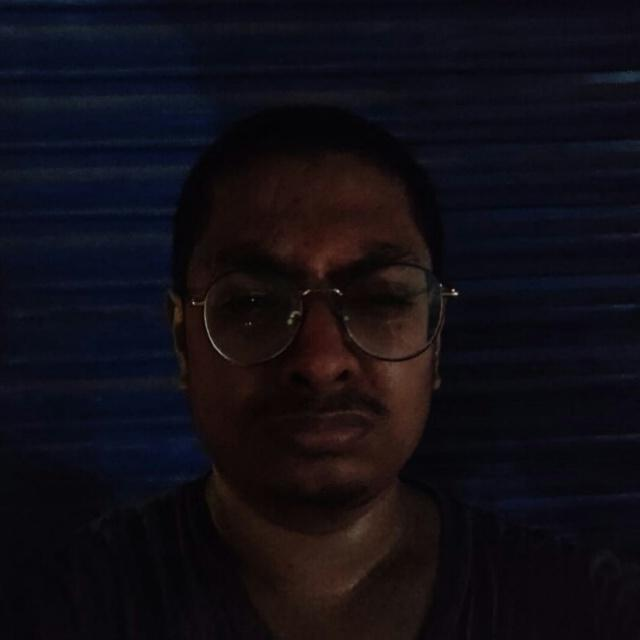Disgust: (123, 100, 507, 558)
